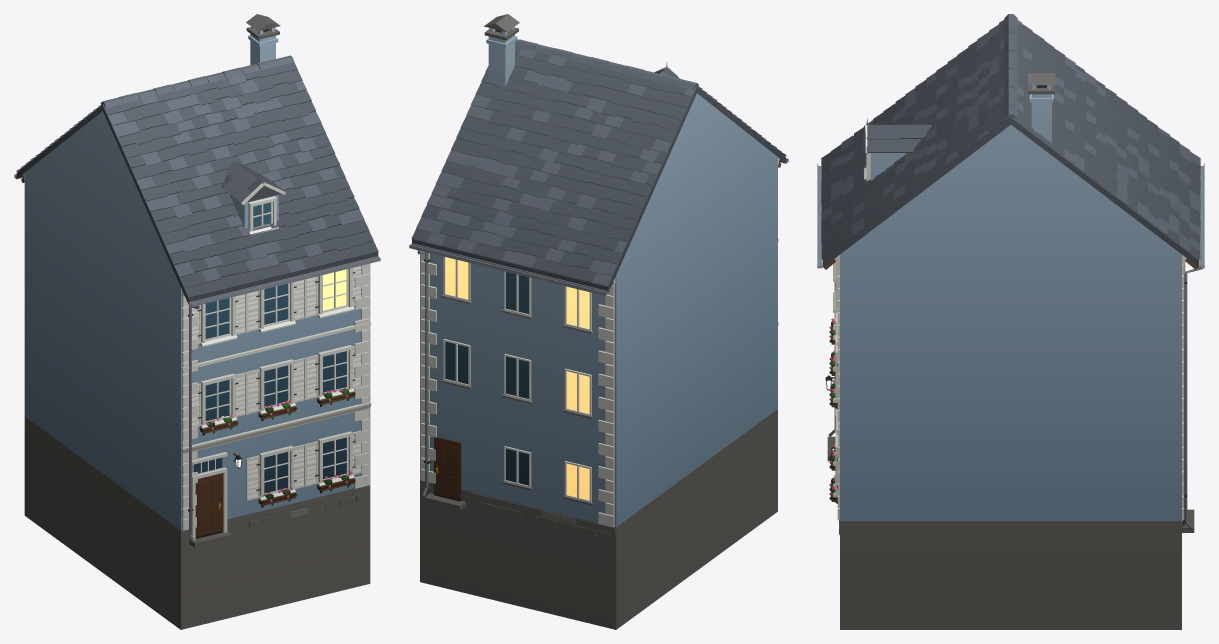
File: TownHouse_D.fbx
The picture shows the model from 3 angles, left to right: view 1: azimuth 30°, elevation 25°; view 2: azimuth 150°, elevation 25°; view 3: azimuth 270°, elevation 25°; orthographic projection. The views are drawn at different scales.
Visible parts, largest first — view 1: TownHouse_D_LOD0; view 2: TownHouse_D_LOD0; view 3: TownHouse_D_LOD0.
Boxes of the visible parts, x1,y1,x2,y2 form: TownHouse_D_LOD0: [14, 14, 380, 629]; TownHouse_D_LOD0: [409, 14, 788, 629]; TownHouse_D_LOD0: [817, 14, 1204, 629].
Size of what is drawn, in the model's own units: 7 by 17.7 by 11.32.
1 material, 1 textured.
